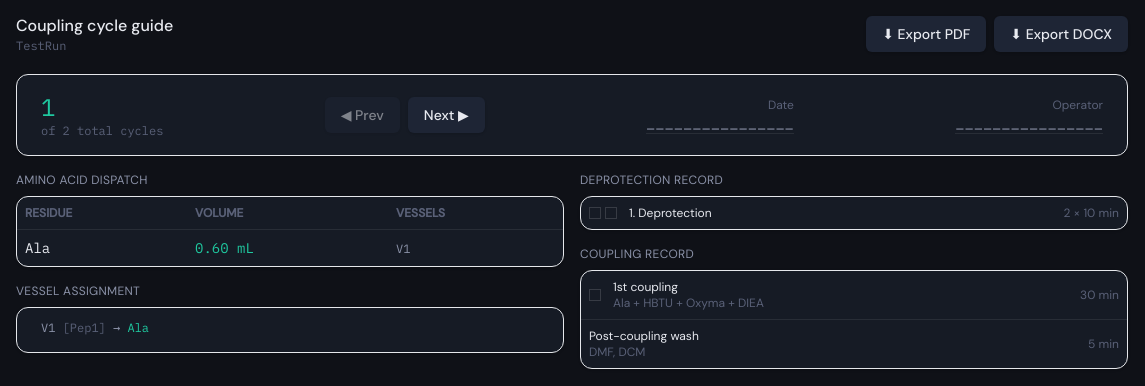
Test case: CycleGuide › clicking Next advances the cycle and saves the position
Expected: the text "TestRun" is shown, [16,38,66,53]
Click the button "Next ▶": (446, 115) [408,97,485,133]
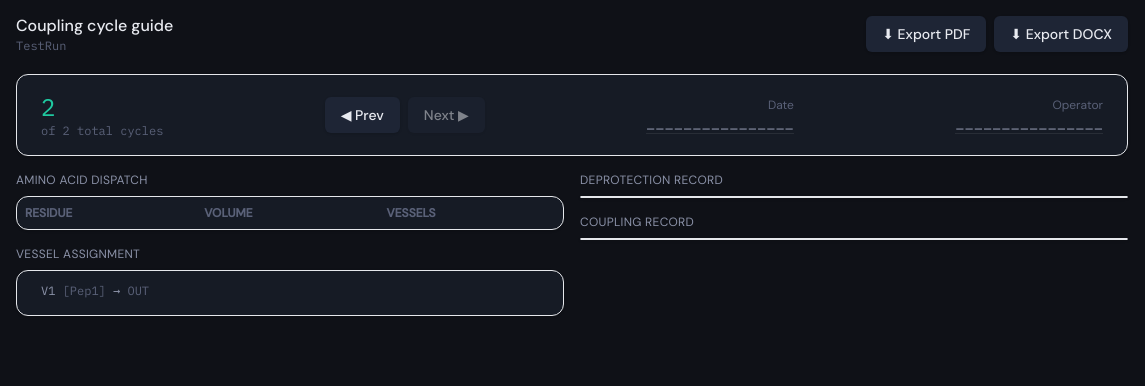
Expected: the text "of 2 total cycles" is shown, [41,123,163,139]
Expected: the button "Next ▶" is disabled, [408,97,485,133]
